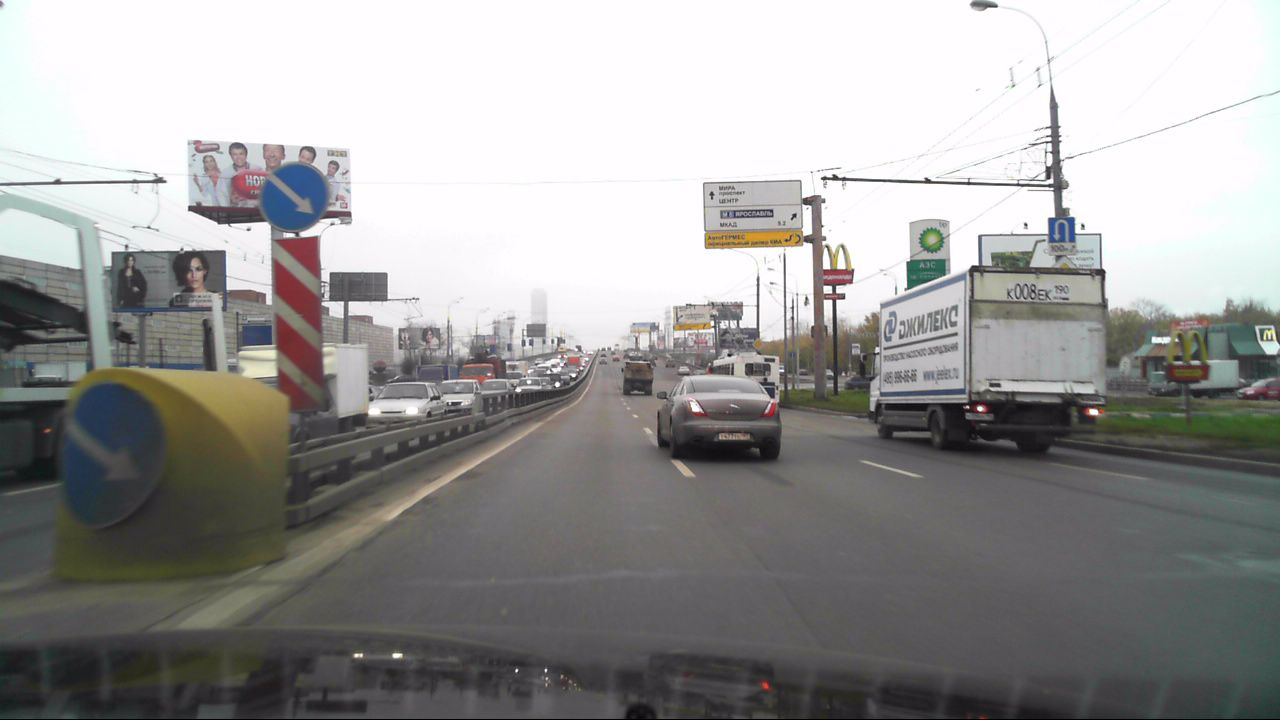U-turn: (1048, 217, 1075, 242)
